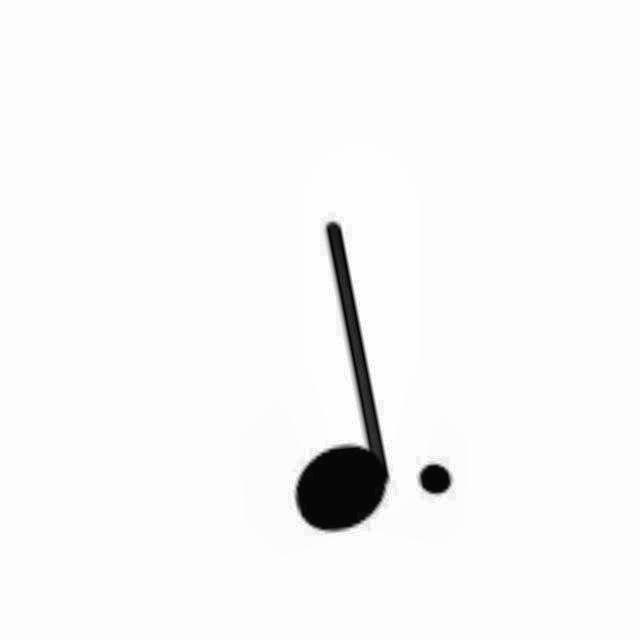Quarter-dot: (260, 211, 478, 541)
